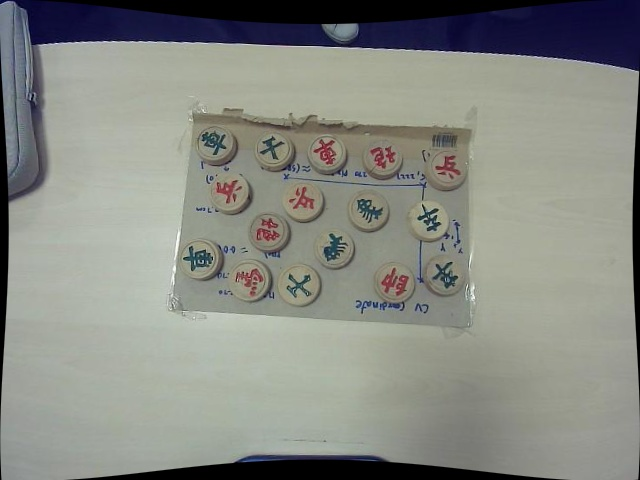Black-Chariot: (181, 239, 222, 279), (197, 126, 236, 163)
Black-Elephant: (348, 192, 387, 231), (317, 228, 355, 268)
Black-Guard: (277, 265, 320, 306), (258, 133, 295, 172)
Black-Soldier: (408, 202, 447, 241)
Red-Cannon: (363, 140, 402, 179), (251, 214, 290, 252)
Red-Chariot: (307, 135, 345, 175)
Red-General: (374, 263, 415, 302)
Red-Horse: (231, 260, 272, 301)
Red-Soldier: (210, 172, 251, 215), (282, 182, 324, 223), (424, 148, 465, 189)
